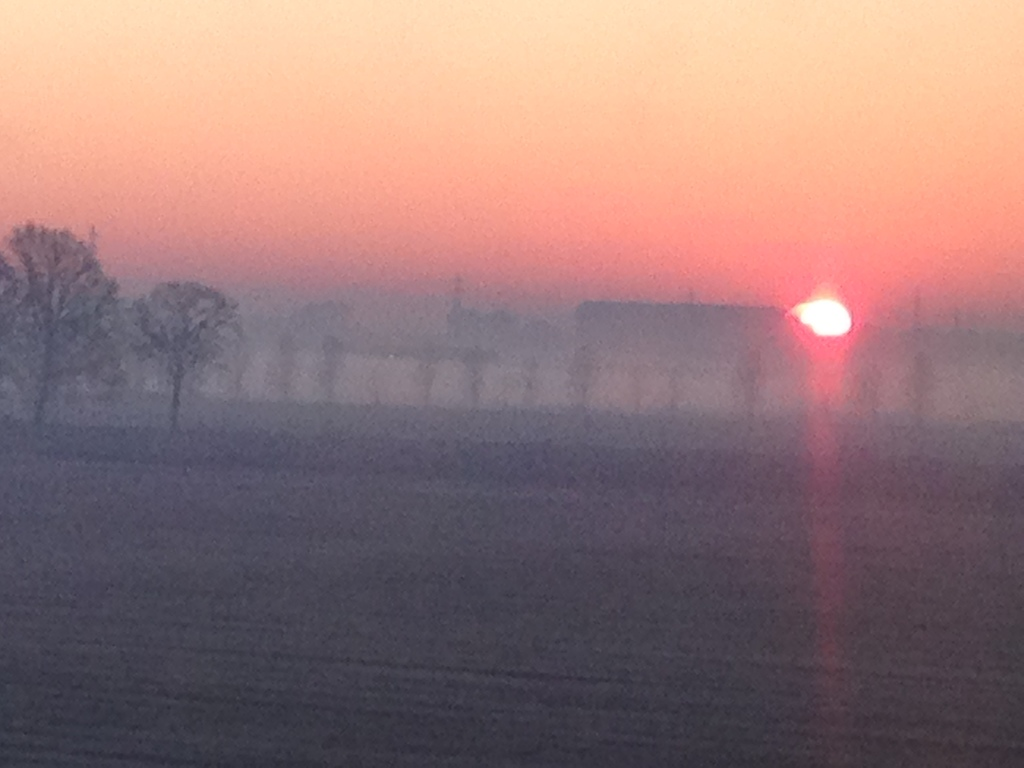Tree: (0, 220, 126, 418), (126, 279, 242, 424)
